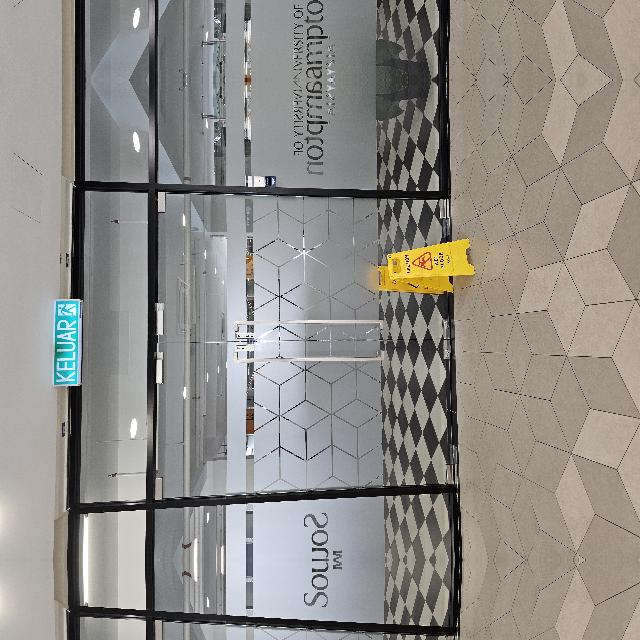door: (56, 230, 377, 538), (55, 582, 376, 640)
obstacle: (266, 458, 322, 554), (265, 565, 322, 640)
